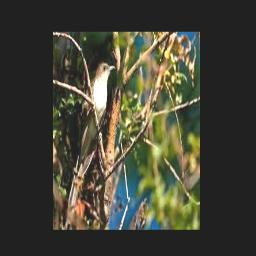Cuckoo: (68, 63, 115, 210)
